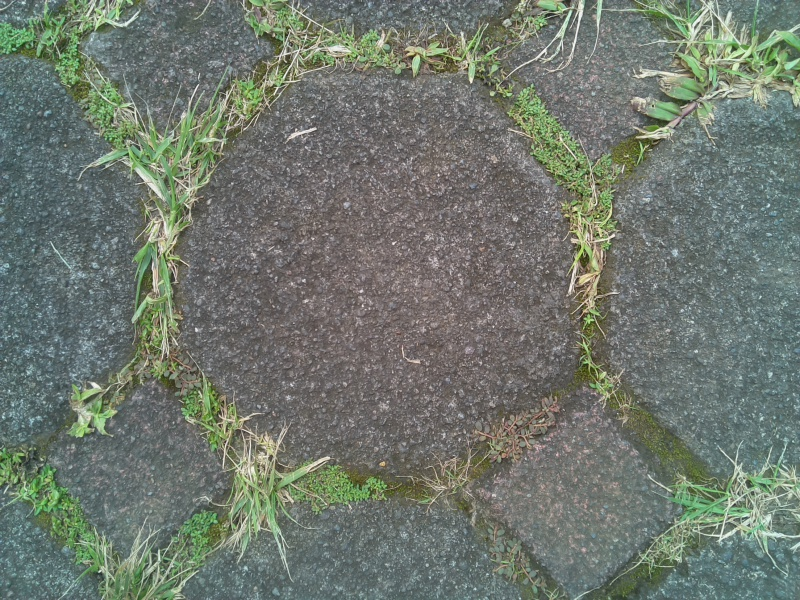Weed: (653, 5, 800, 109), (509, 88, 615, 207), (661, 453, 781, 558), (104, 194, 219, 301), (20, 462, 116, 577), (114, 118, 233, 209), (560, 196, 627, 332), (230, 437, 310, 547), (636, 59, 729, 149), (170, 366, 245, 450), (298, 23, 401, 84), (130, 290, 197, 382), (477, 395, 567, 463), (292, 463, 388, 517), (76, 78, 146, 146), (209, 69, 274, 142), (316, 25, 392, 82), (60, 375, 119, 444), (418, 453, 482, 511), (38, 18, 94, 84), (167, 503, 223, 563), (449, 30, 506, 85), (400, 30, 448, 82), (591, 367, 626, 413)
